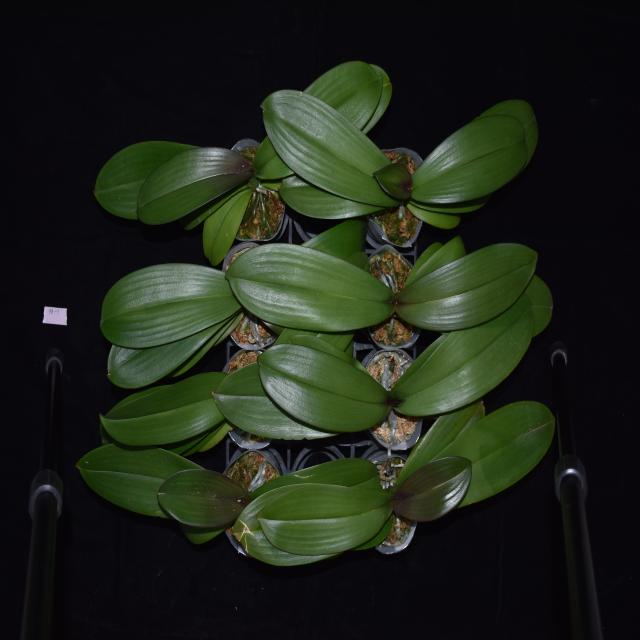leaf: (403, 402, 558, 514), (412, 93, 538, 227), (386, 314, 536, 414), (222, 245, 393, 332), (256, 60, 390, 170), (261, 88, 390, 201), (94, 258, 232, 349), (232, 486, 392, 562), (253, 346, 388, 436), (397, 241, 540, 322), (98, 368, 224, 451), (210, 361, 332, 440), (135, 146, 253, 227), (106, 316, 236, 388), (74, 445, 204, 517), (95, 140, 202, 220), (396, 392, 485, 474), (153, 462, 249, 533), (386, 454, 476, 529), (248, 453, 384, 500), (280, 169, 385, 224), (193, 182, 260, 261), (489, 268, 557, 336), (298, 220, 369, 274), (404, 241, 464, 283), (376, 157, 414, 203)
